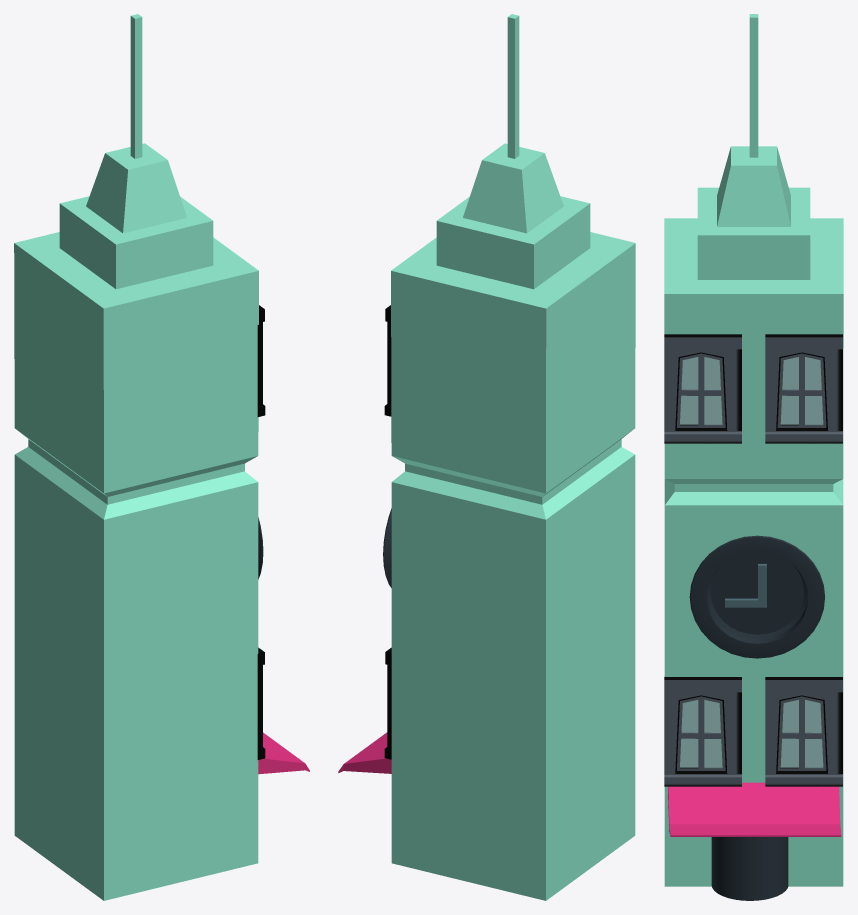
Rendered from ClockBuilding.fbx.
3 views of the same model, side by side, from view 1: azimuth 30°, elevation 25°; view 2: azimuth 150°, elevation 25°; view 3: azimuth 270°, elevation 25° (orthographic).
Parts seen in each view (by area): view 1: WindowPlane.001; view 2: WindowPlane.001; view 3: WindowPlane.001.
Boxes of the visible parts, x1,y1,x2,y2 form: WindowPlane.001: [14, 14, 309, 900]; WindowPlane.001: [338, 14, 635, 900]; WindowPlane.001: [664, 14, 843, 900].
Size of the model in its own units: 610 by 2321 by 453.
